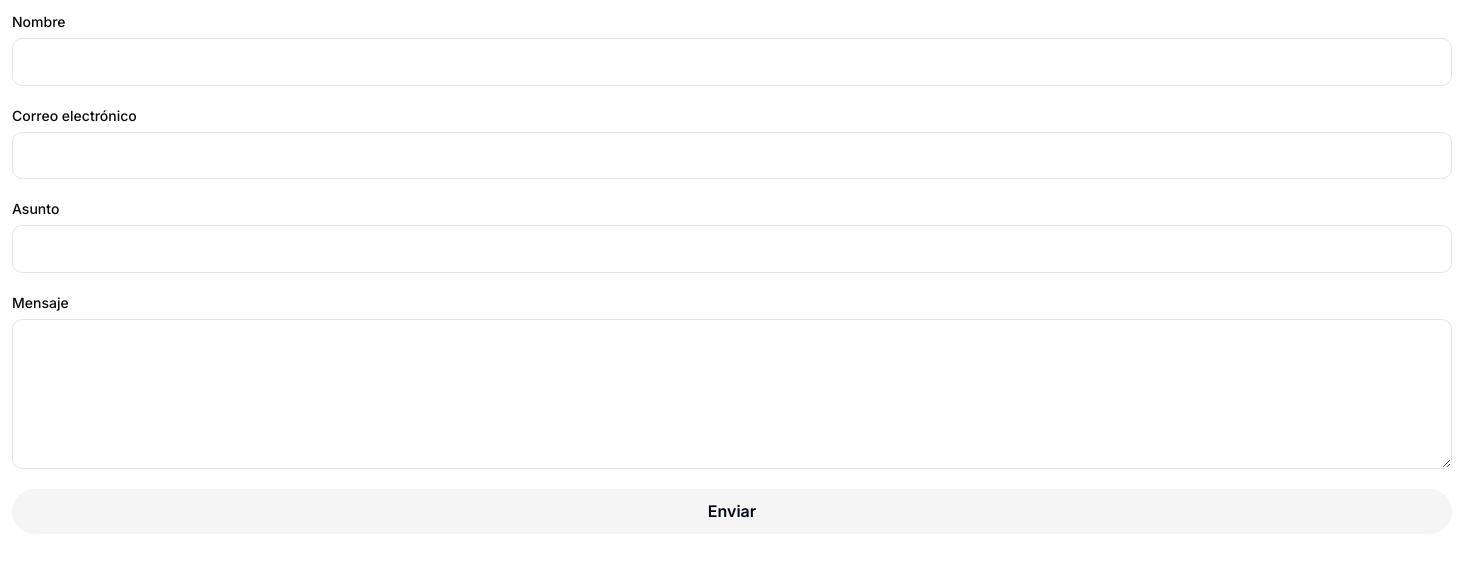
ContactForm › transiciona a success tras envío exitoso via fetch
Type "Ian Vazquez" into the field labelled "Nombre" at (732, 62), box [12, 38, 1452, 86]
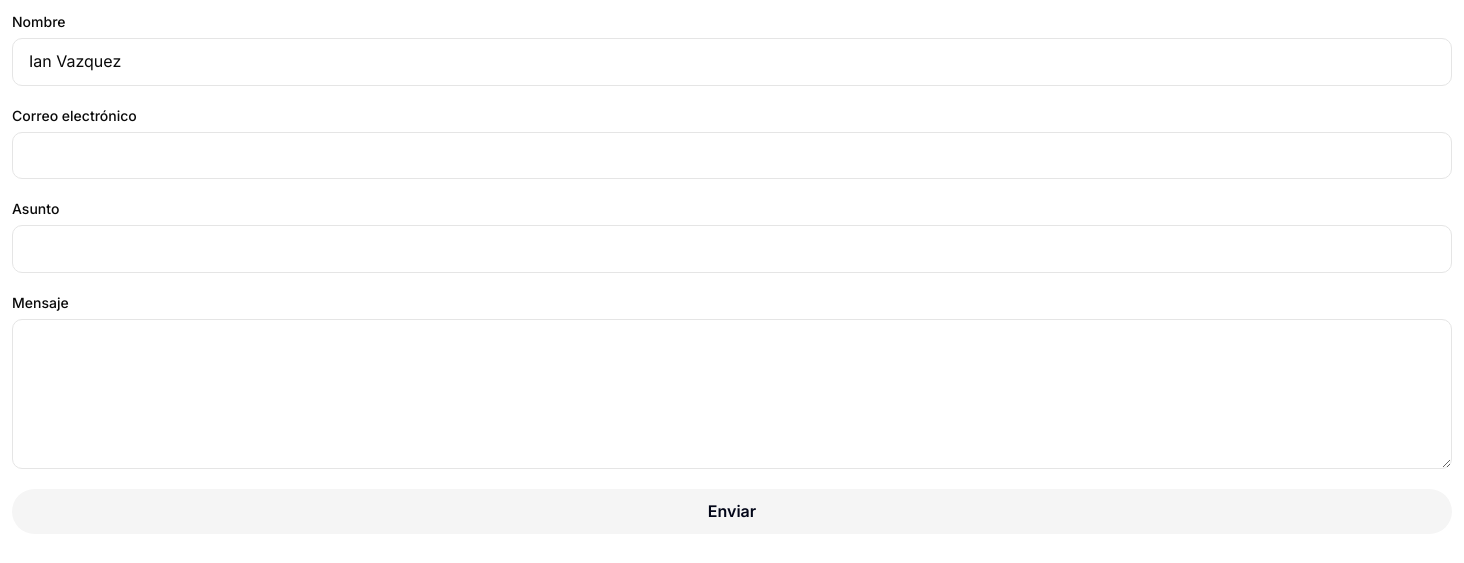
Type "ian@example.com" into the field labelled "Correo electrónico" at (732, 155), box [12, 132, 1452, 179]
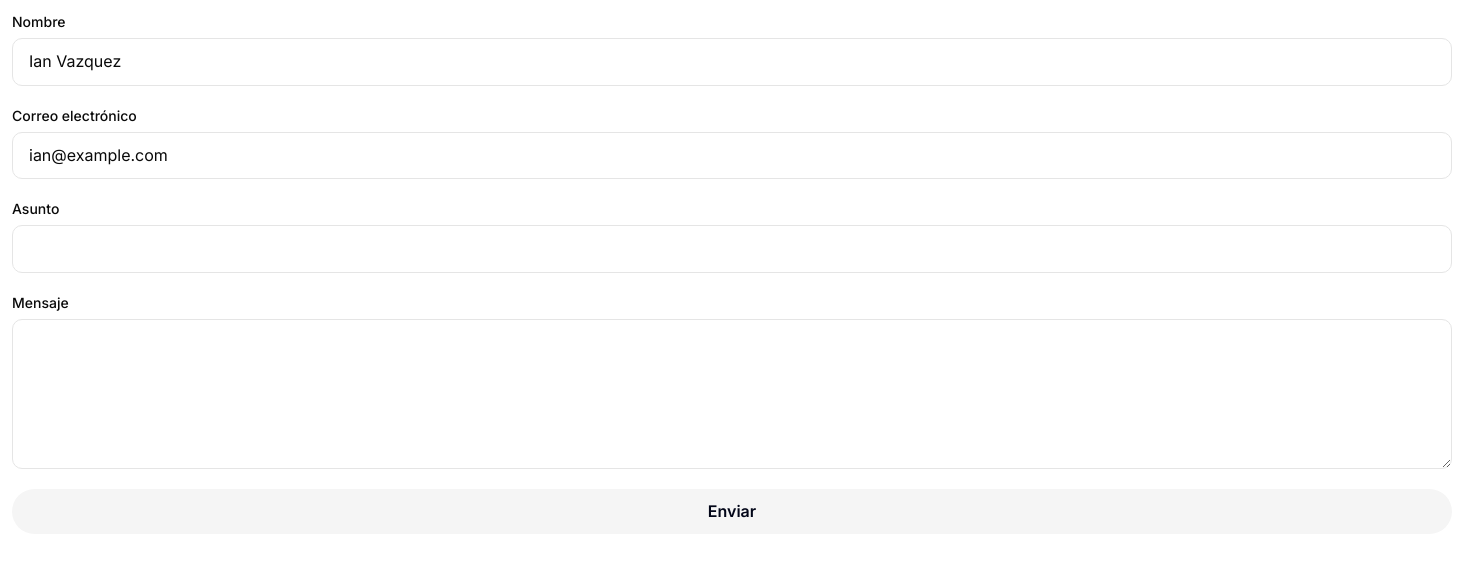
Type "Consulta" into the field labelled "Asunto" at (732, 249), box [12, 225, 1452, 273]
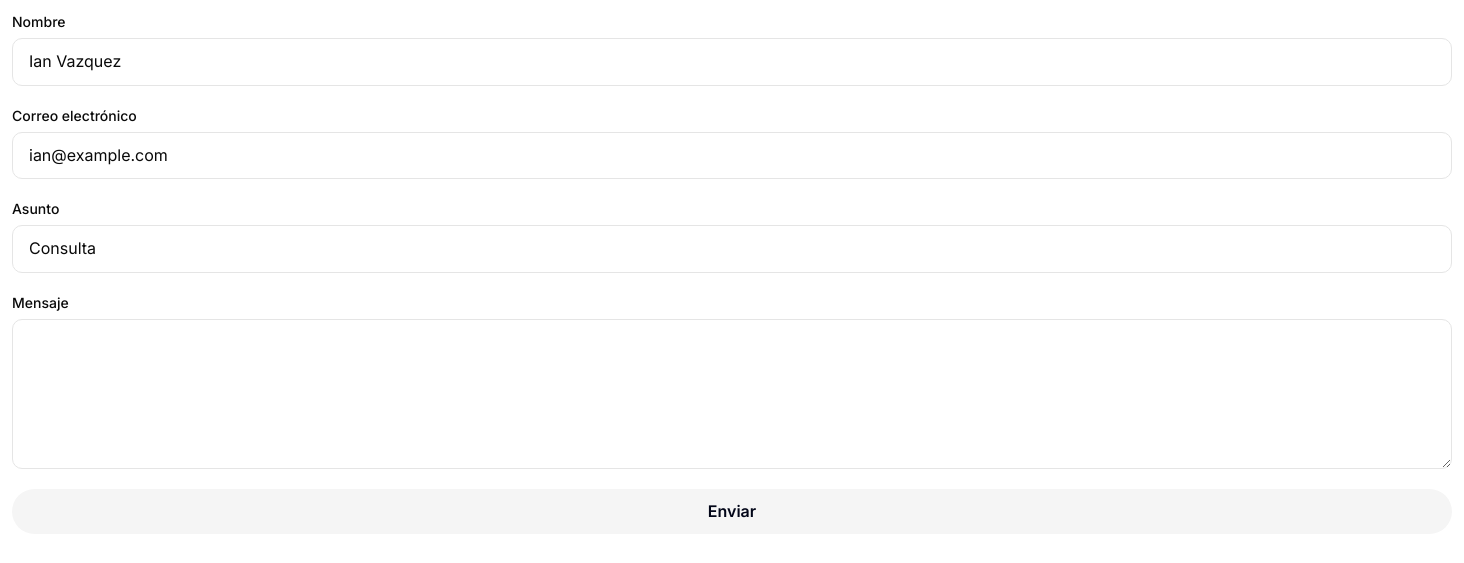
Type "Mensaje de prueba con suficientes caracteres." into the text box labelled "Mensaje" at (732, 394), box [12, 319, 1452, 469]
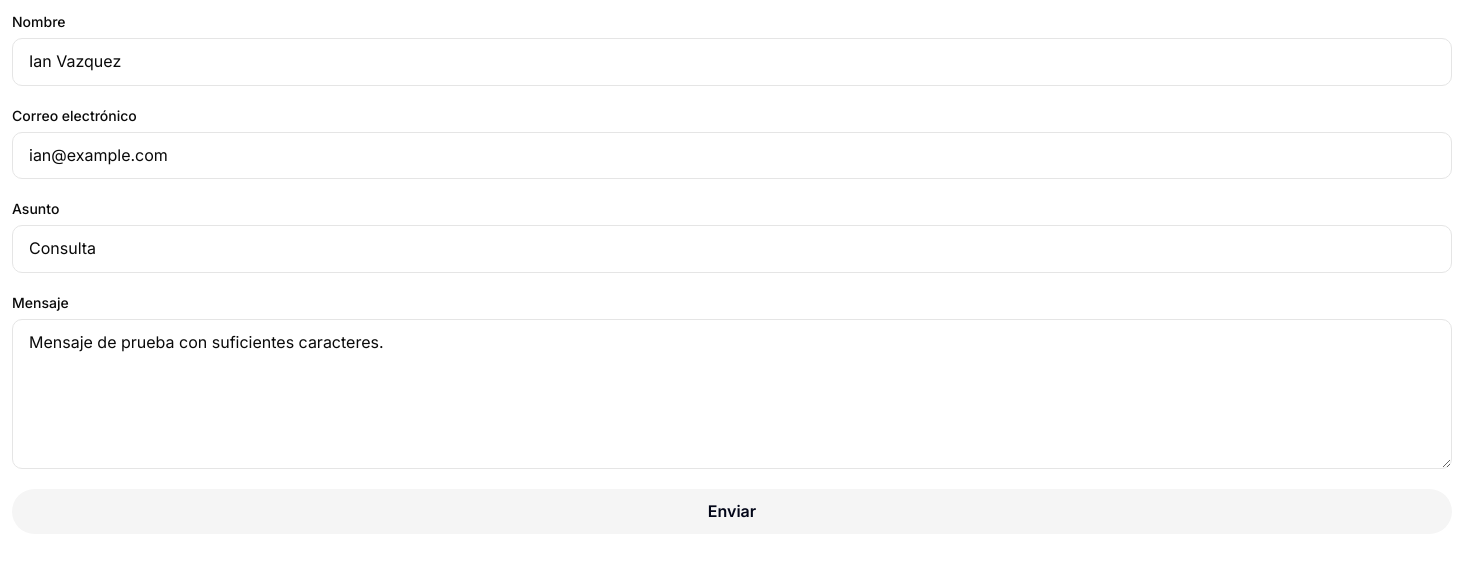
Submit the form
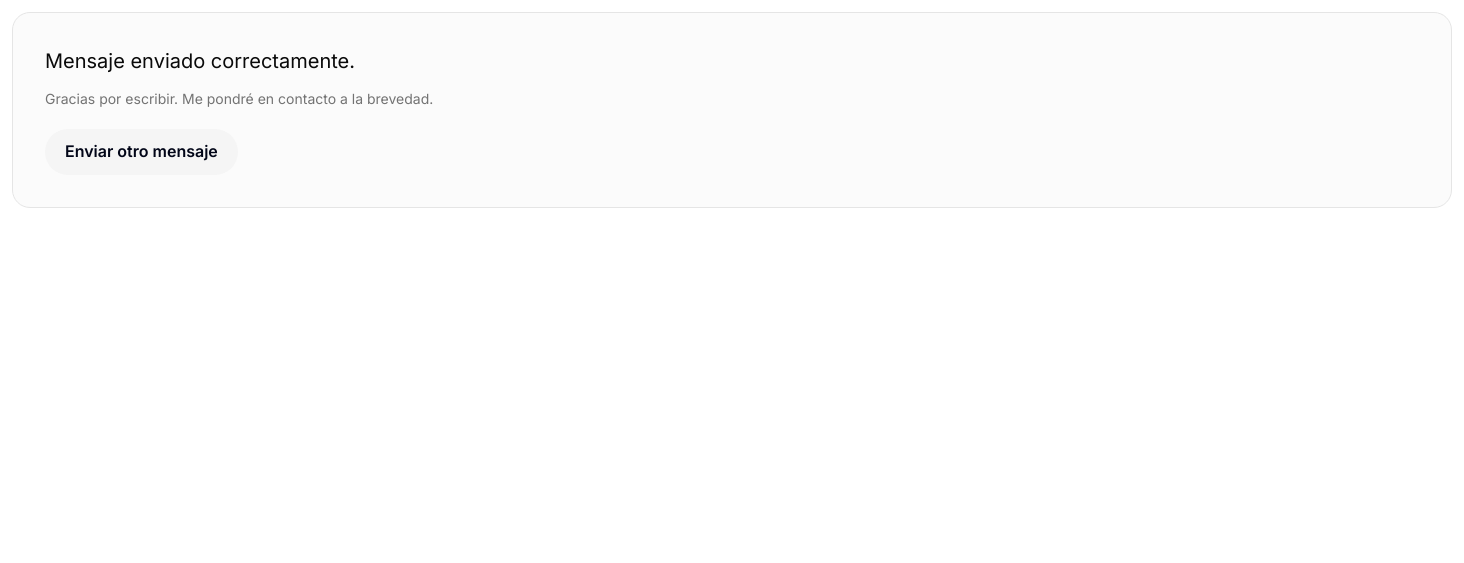
Expected: the text "Mensaje enviado correctamente." is shown, [45, 49, 355, 73]
Expected: the form is gone
Expected: the button "Enviar otro mensaje" is shown, [45, 129, 238, 175]
